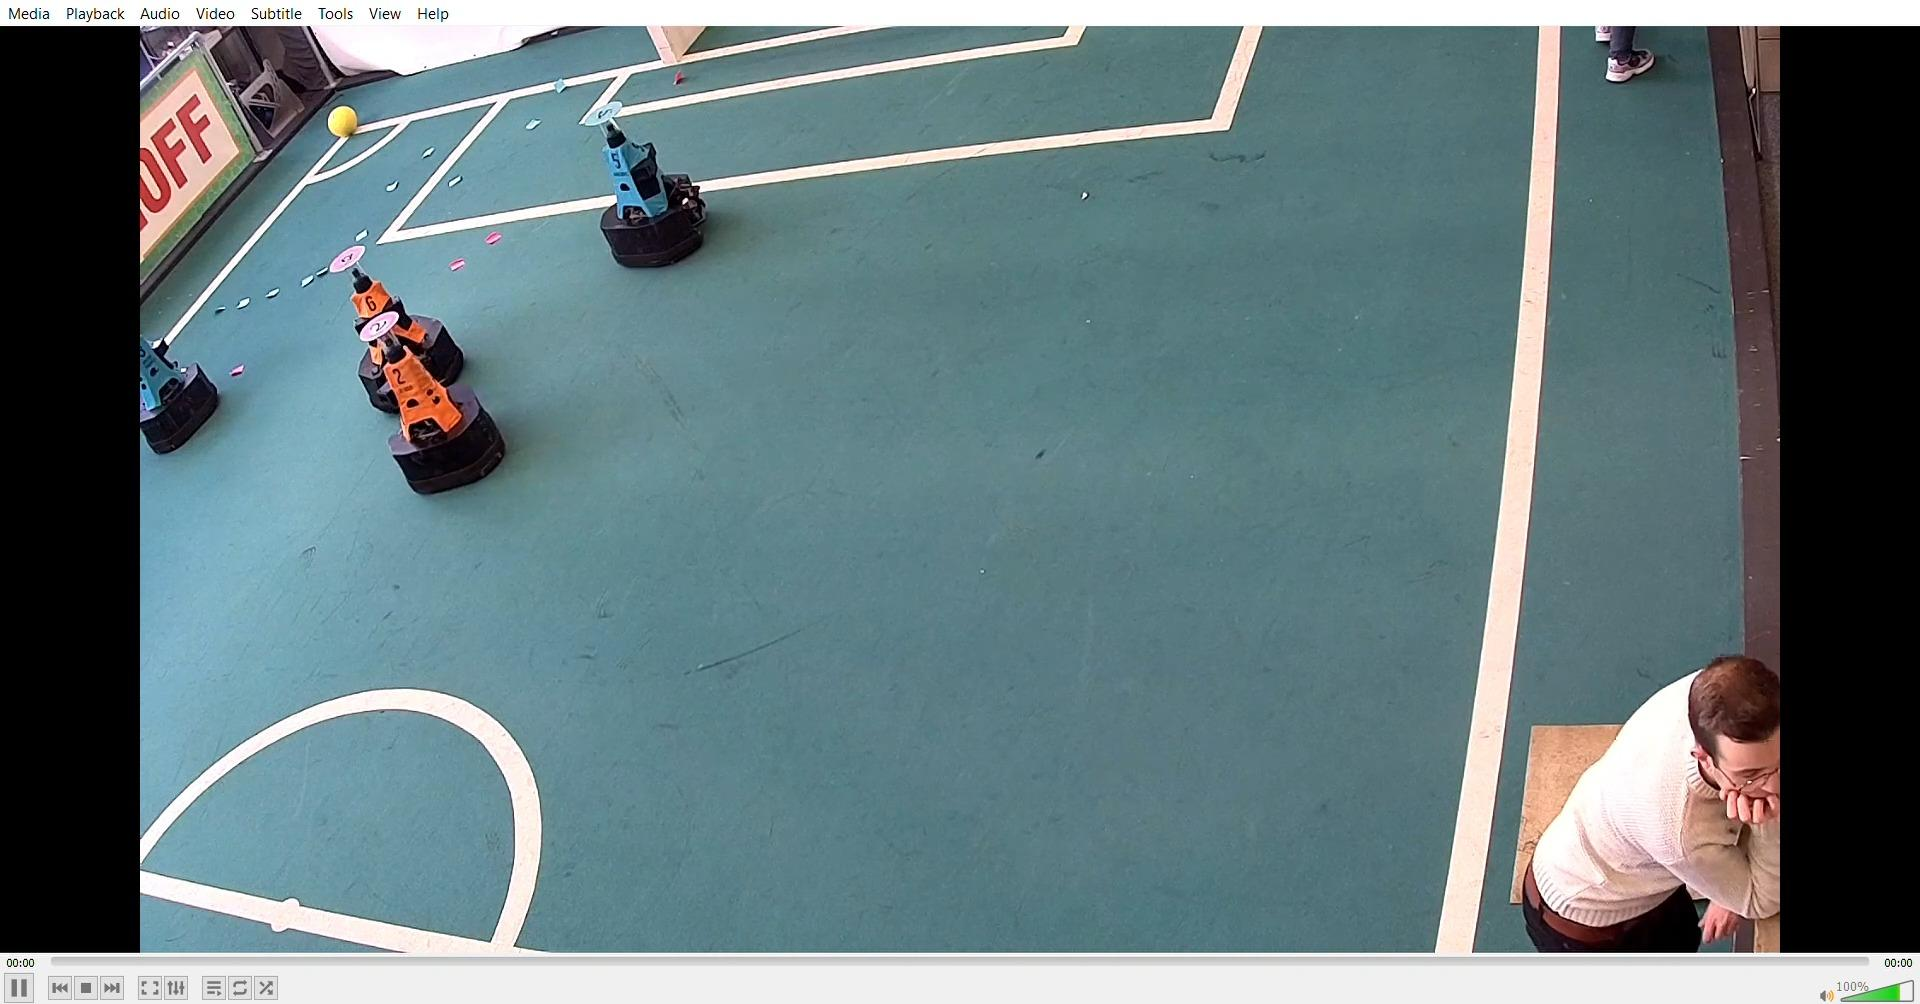Ball: (334, 104, 370, 136)
Team_Blue: (580, 93, 720, 272), (138, 314, 235, 451)
Team_Red: (344, 298, 512, 500), (324, 237, 461, 401)
